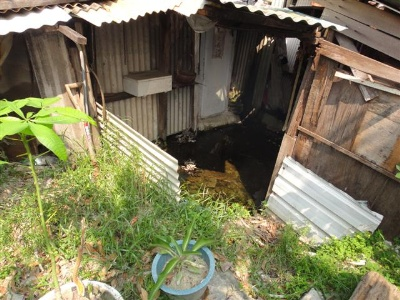styrofoam: (122, 69, 173, 97)
